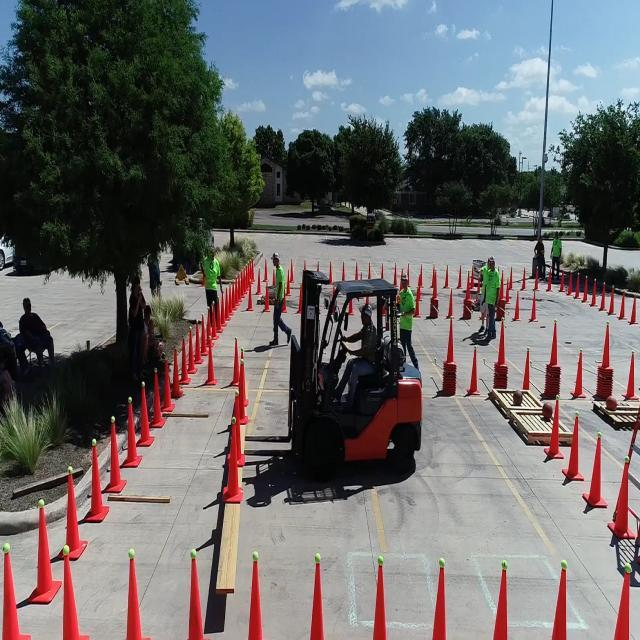driver: (337, 302, 379, 400)
forklift: (286, 266, 425, 488)
person: (270, 248, 288, 348), (396, 270, 416, 346), (483, 259, 501, 338), (128, 276, 146, 339), (203, 246, 220, 300), (552, 230, 562, 274)
